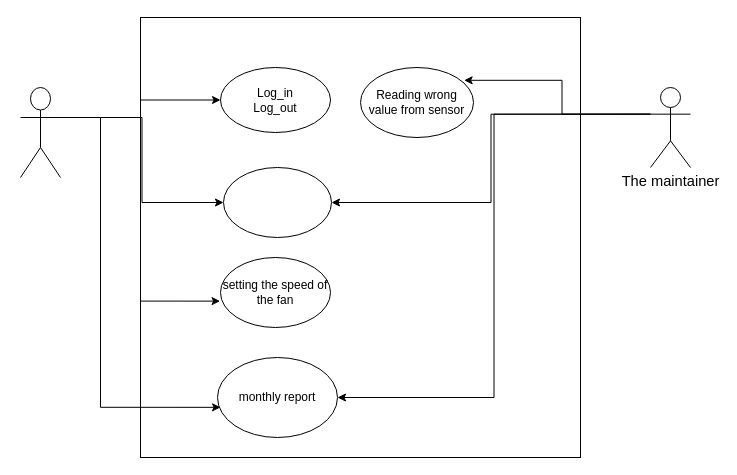
This 737x475 diagram has some shape labels left out. Each missing label, with the centre of its shape:
"switching the user" belongs at pixel 277 202.
"The user" belongs at pixel 40 132.
